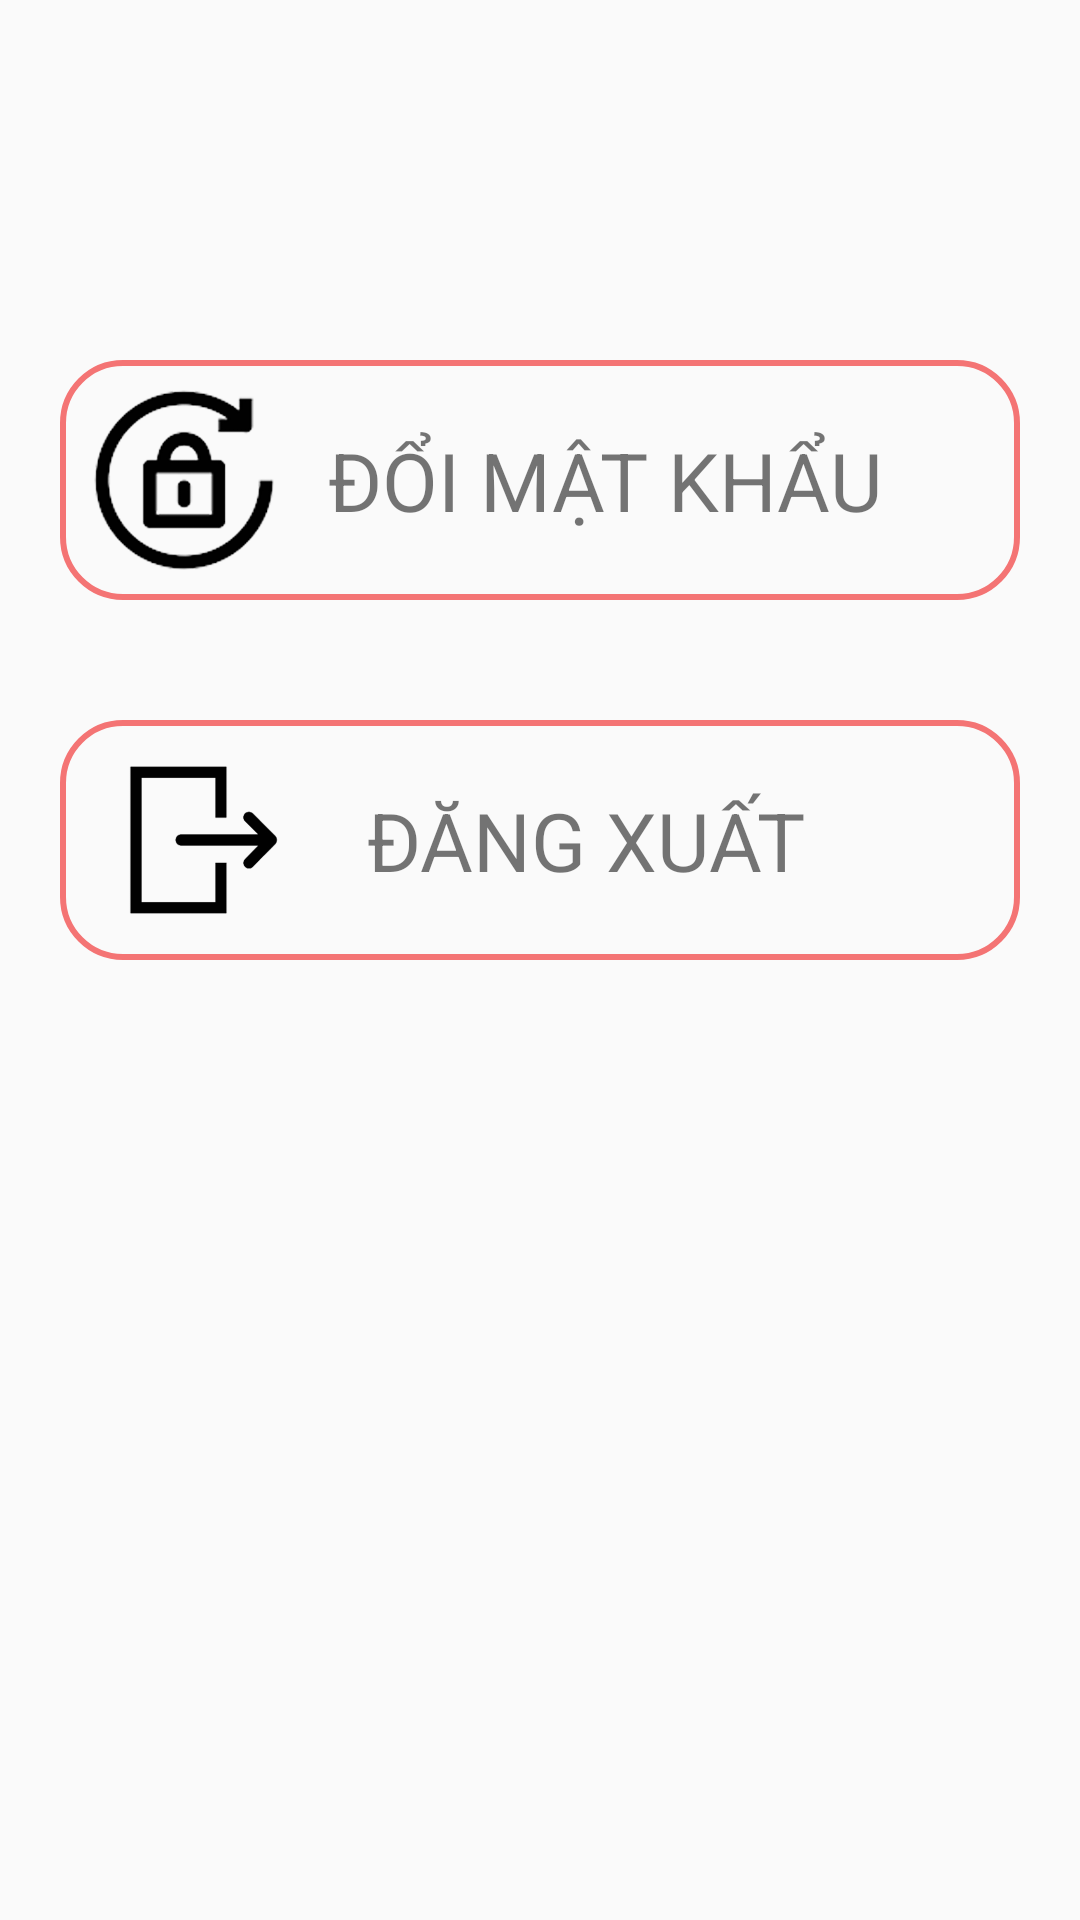

Icon bounding boxes for this 1080×1920 phone screenshot, format box(x1, y1, x2, y2):
doimk: box(95, 391, 274, 570)
